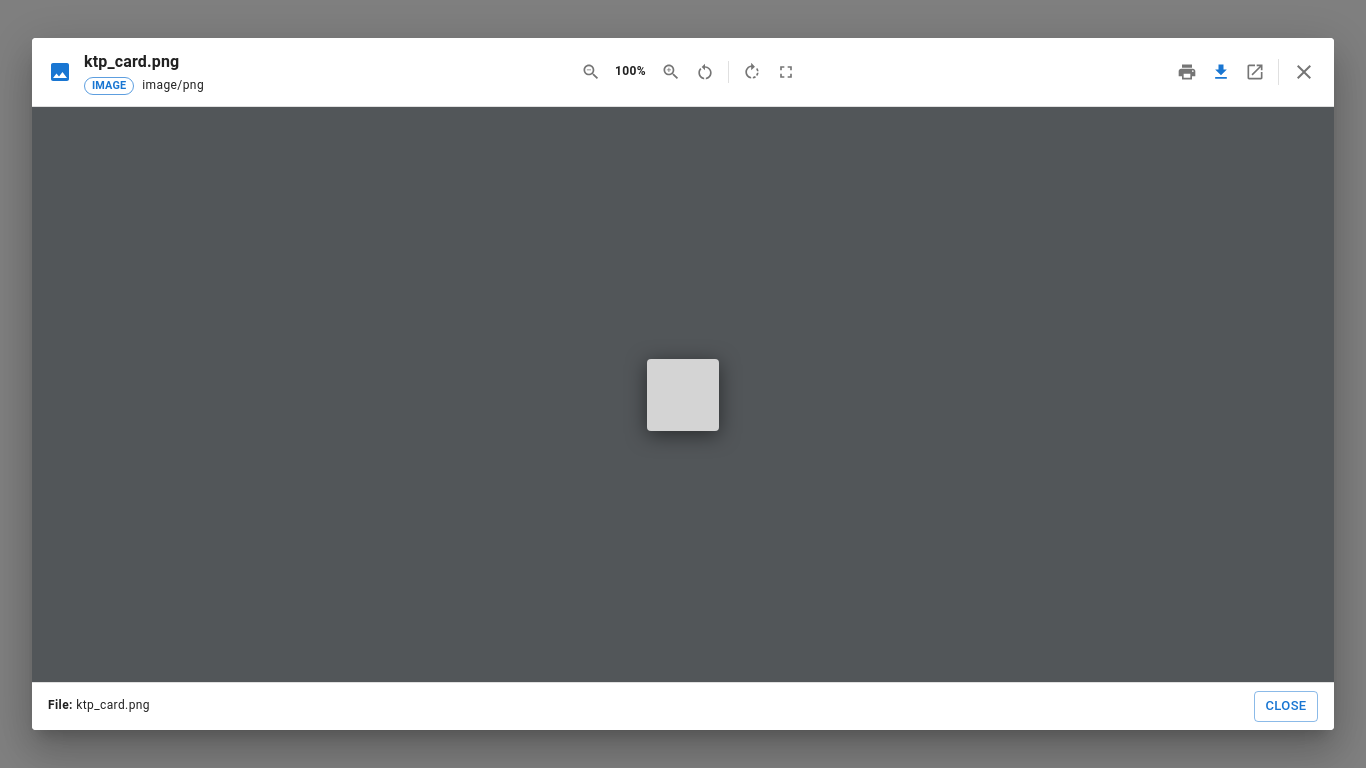
it: DocumentPreviewModal & detectDocumentCategory › DocumentPreviewModal rendering › renders image document inline and handles zoom & rotate controls
Expected: the heading "ktp_card.png" is shown, [84,52,179,71]
Expected: the text "IMAGE" is shown, [92,79,126,92]
//  Zoom In
Click the button named "Zoom In".
click(670, 72)  # box [656,57,686,87]
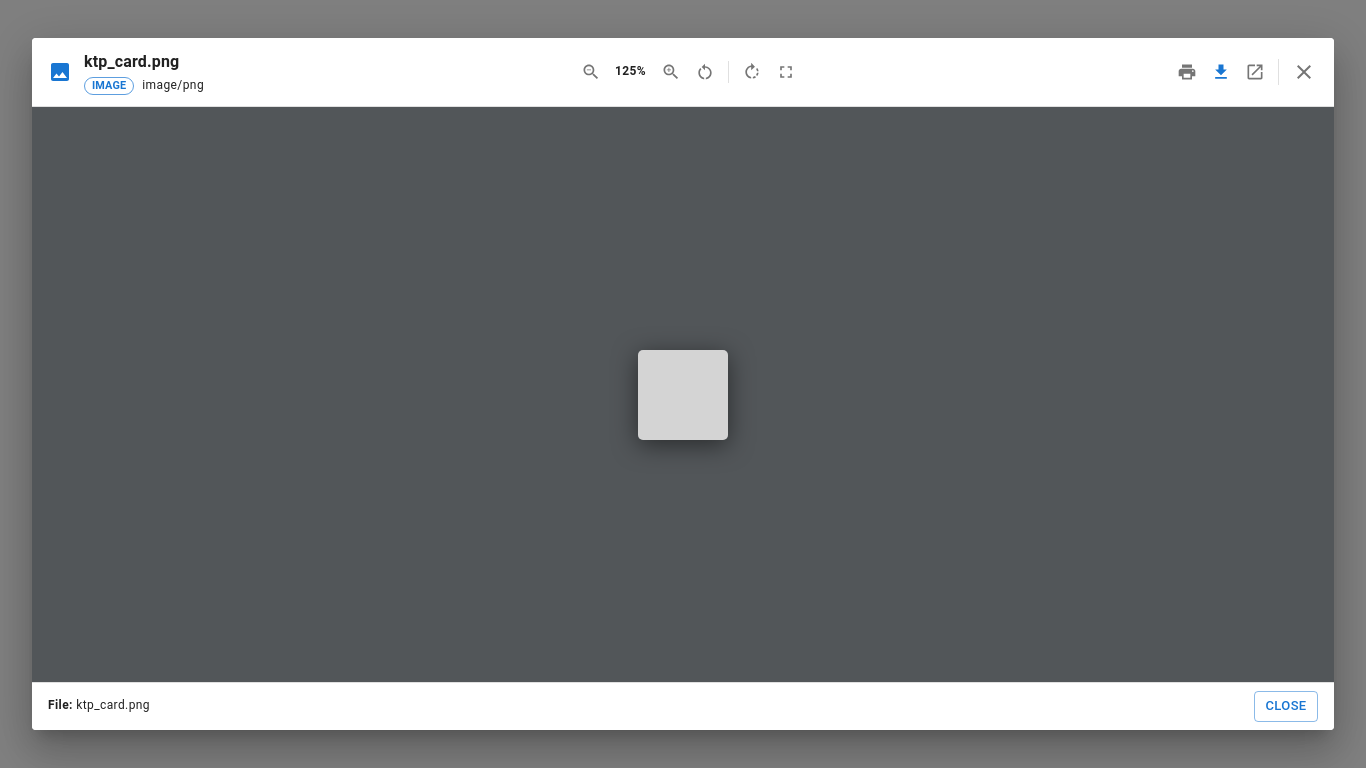
Result: the text "125%" is shown at [615,64,646,78]
Click the button named "Rotate 90°".
click(752, 72)  # box [736,57,766,87]
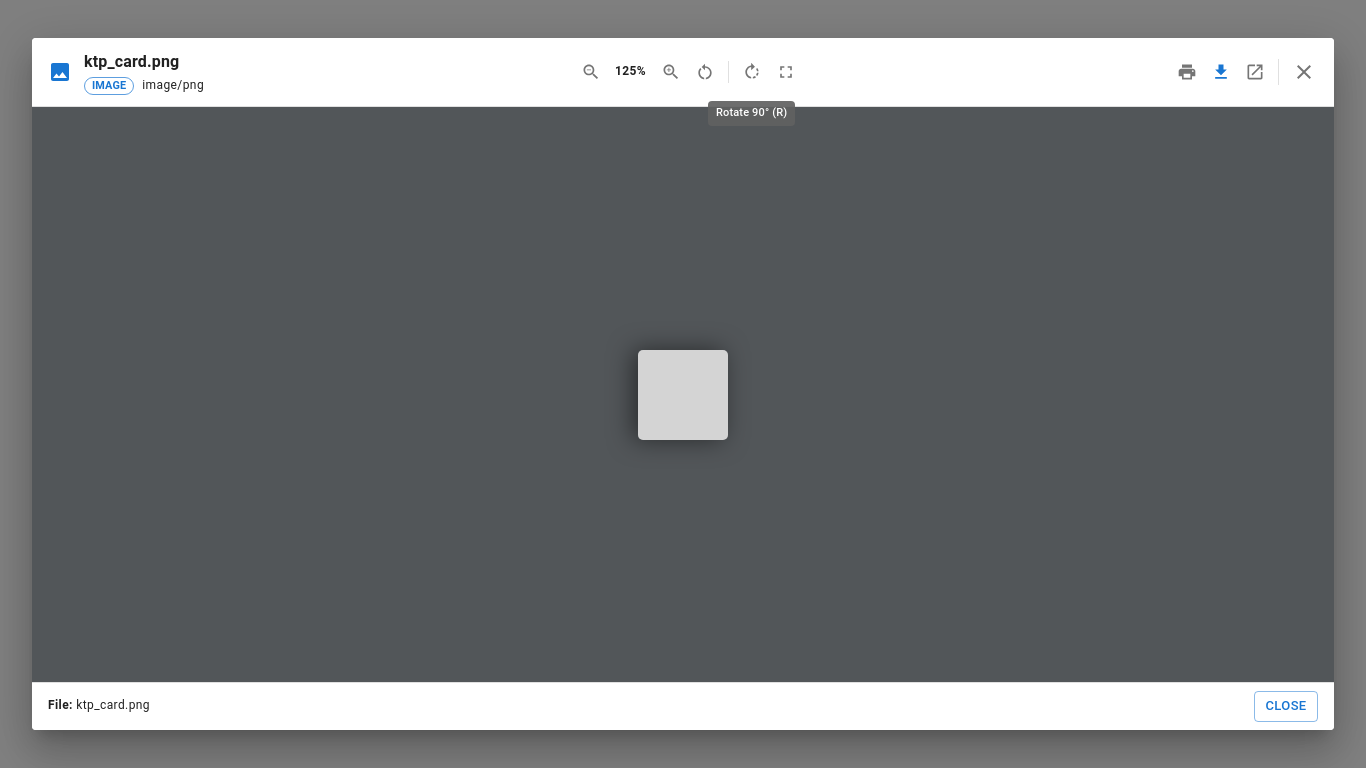
// Reset Zoom
Click the button named "Reset Zoom".
click(704, 72)  # box [690,57,720,87]
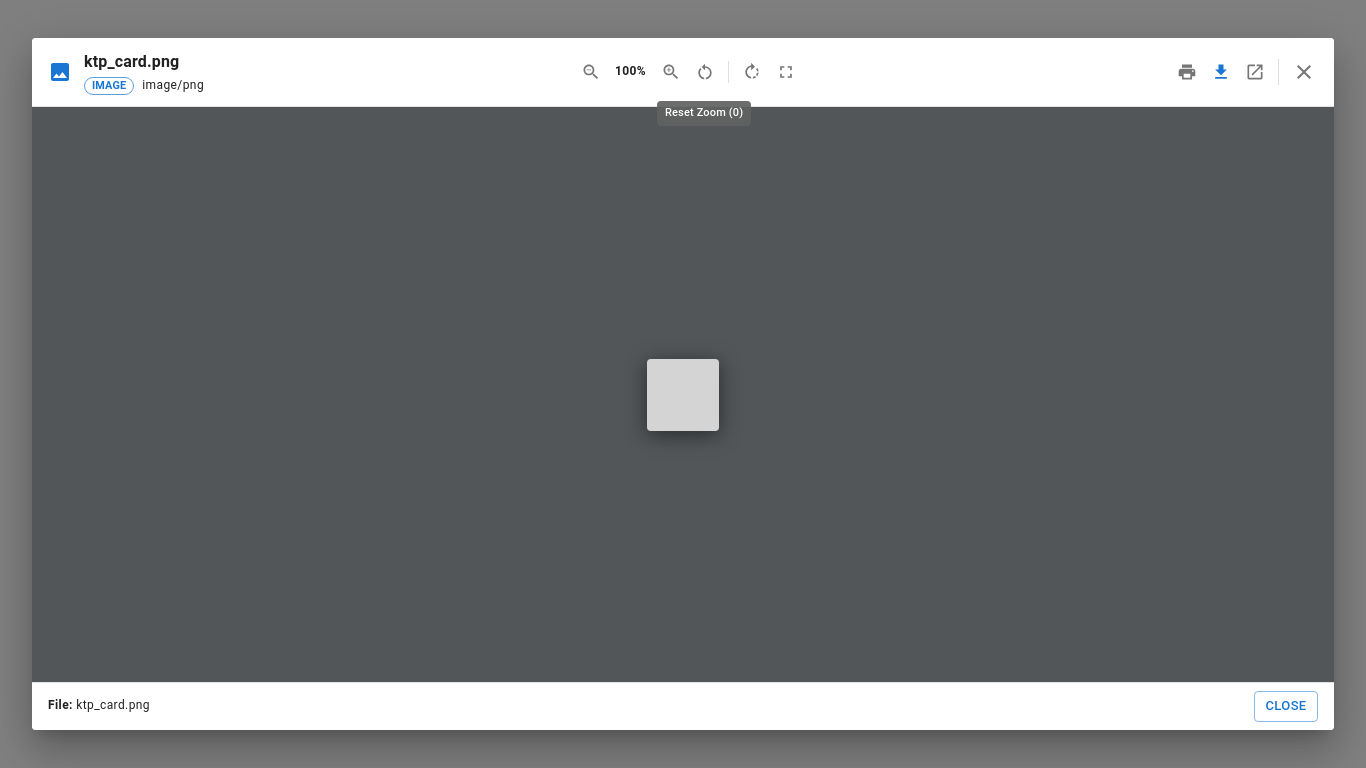
Result: the text "100%" is shown at [615,64,646,78]
